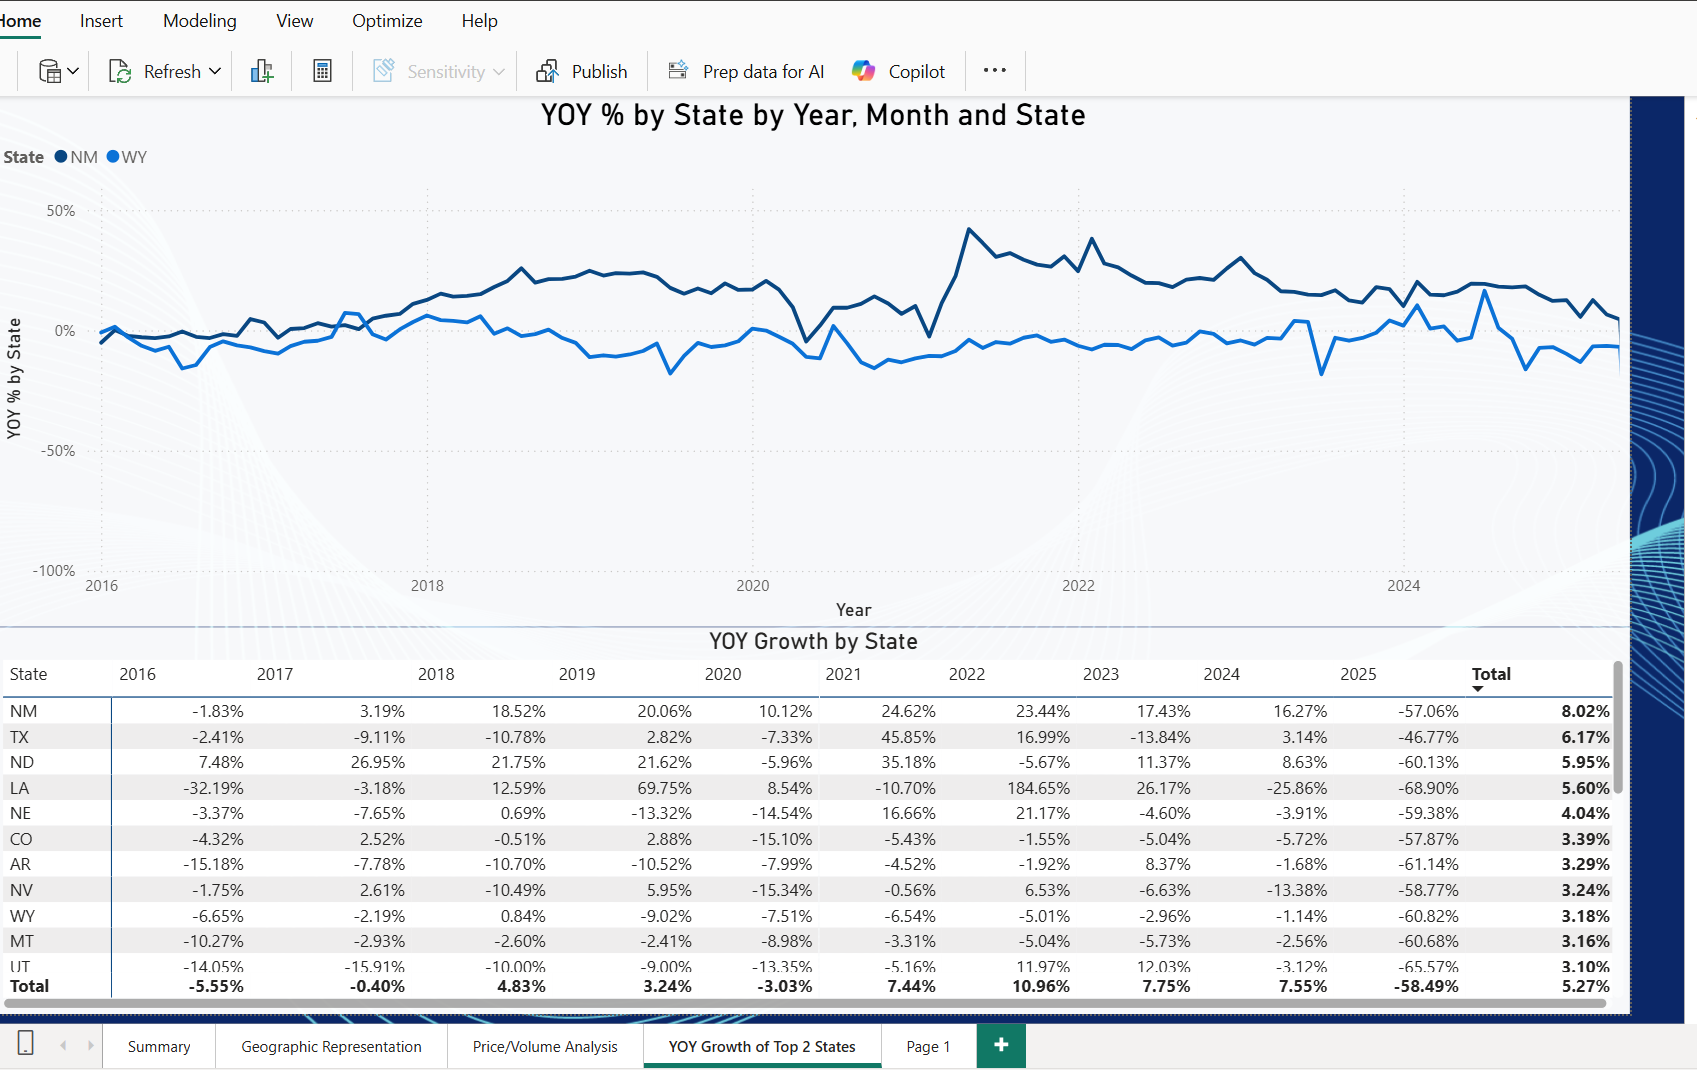

The dashboard page shown, as its layout file describes it:
{"tool":"powerbi","page":{"name":"YOY Growth of Top 2 States","canvas":[1280,720],"ordinal":3},"visuals":[{"type":"lineChart","fields":{"Category":["Oil Prices.Date.Variation.Date Hierarchy.Year","Oil Prices.Date.Variation.Date Hierarchy.Month"],"Y":["OGORBcsv.Sum of Volume YoY%"],"Series":["OGORBcsv.State"]},"box":[0,0,1280,416],"z":0},{"type":"actionButton","box":[0,0,100,40],"z":2000},{"type":"pivotTable","title":"YOY Growth by State","fields":{"Rows":["OGORBcsv.State"],"Columns":["Oil Prices.Date.Variation.Date Hierarchy.Year"],"Values":["OGORBcsv.Sum of Volume YoY%"]},"box":[0,416,1280,304],"z":3000}]}

Visuals, with their boxes on the page's 1280x720 design canvas (x1, y1, x2, y2). These are canvas units, not pixel positions in the 1697x1070 screenshot, which may show the page scaled, cropped or inside an application window:
lineChart - Oil Prices.Date.Variation.Date Hierarchy.Year x Oil Prices.Date.Variation.Date Hierarchy.Month: 0,0,1280,416
actionButton: 0,0,100,40
"YOY Growth by State" pivotTable: 0,416,1280,720
